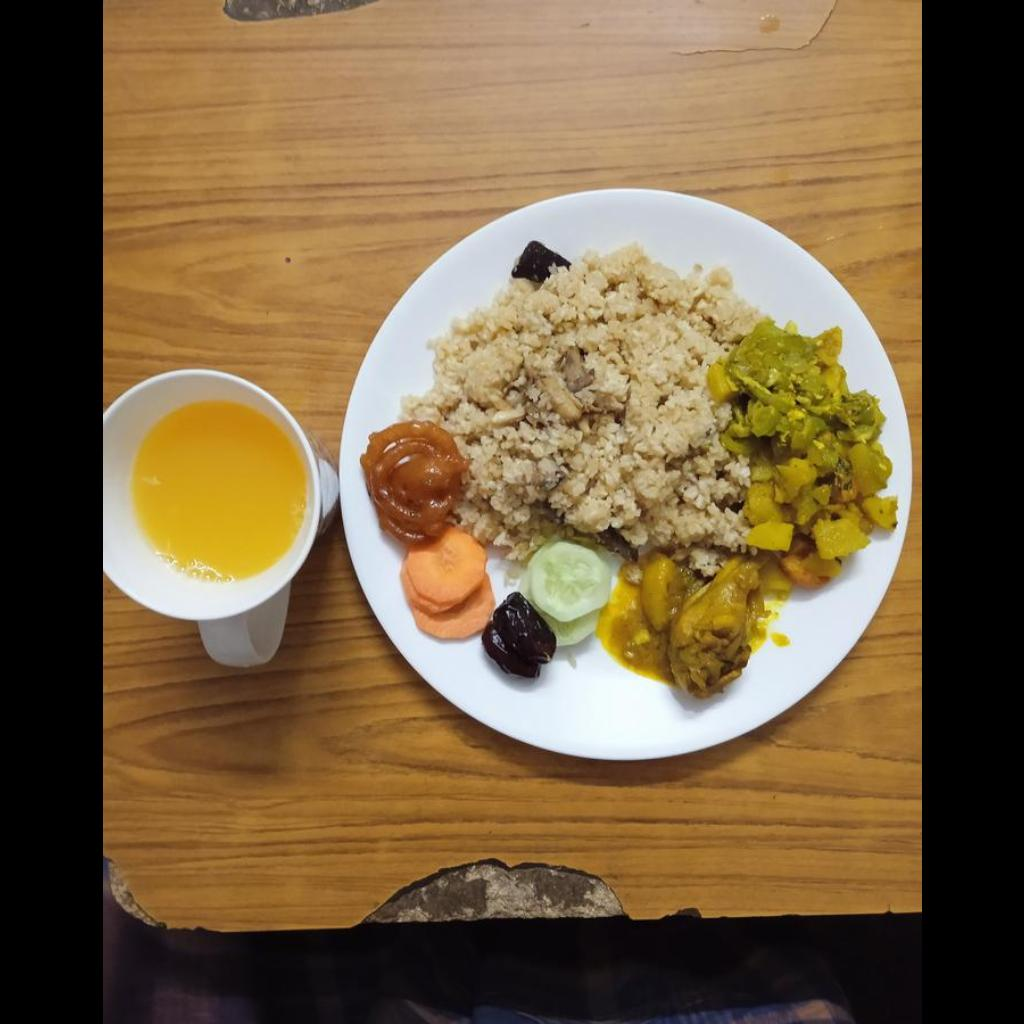biriyani: (401, 246, 768, 573)
carrot: (400, 527, 493, 639)
chicken: (637, 560, 763, 692)
cucumber: (518, 540, 615, 647)
dates: (481, 592, 555, 678)
jilapi: (362, 425, 469, 537)
juice: (132, 402, 308, 581)
vegetable: (708, 320, 895, 585)
